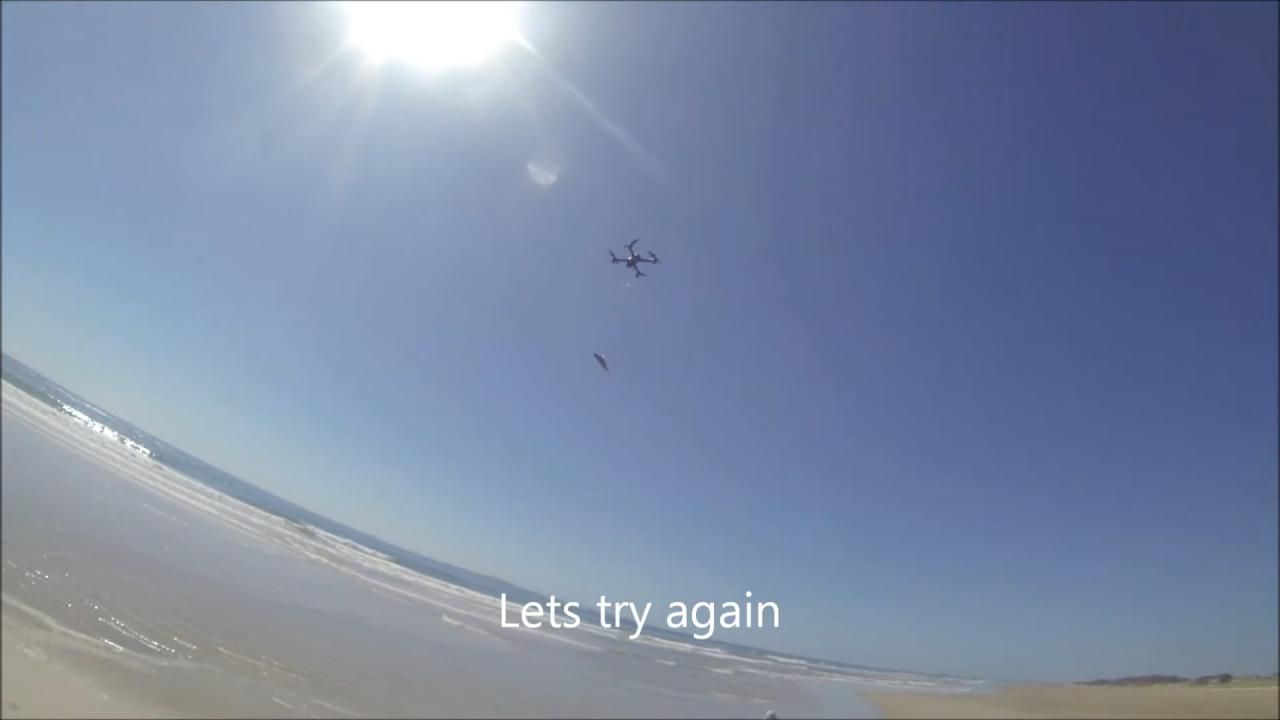Drone: (602, 231, 668, 285)
